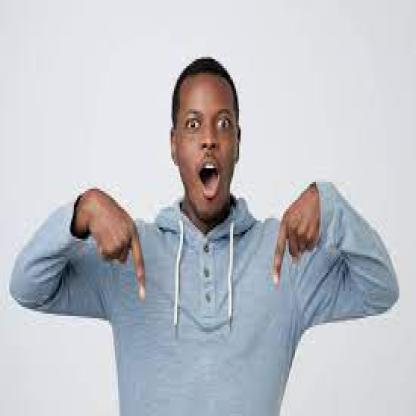Down: (86, 178, 150, 310), (264, 176, 326, 294)
